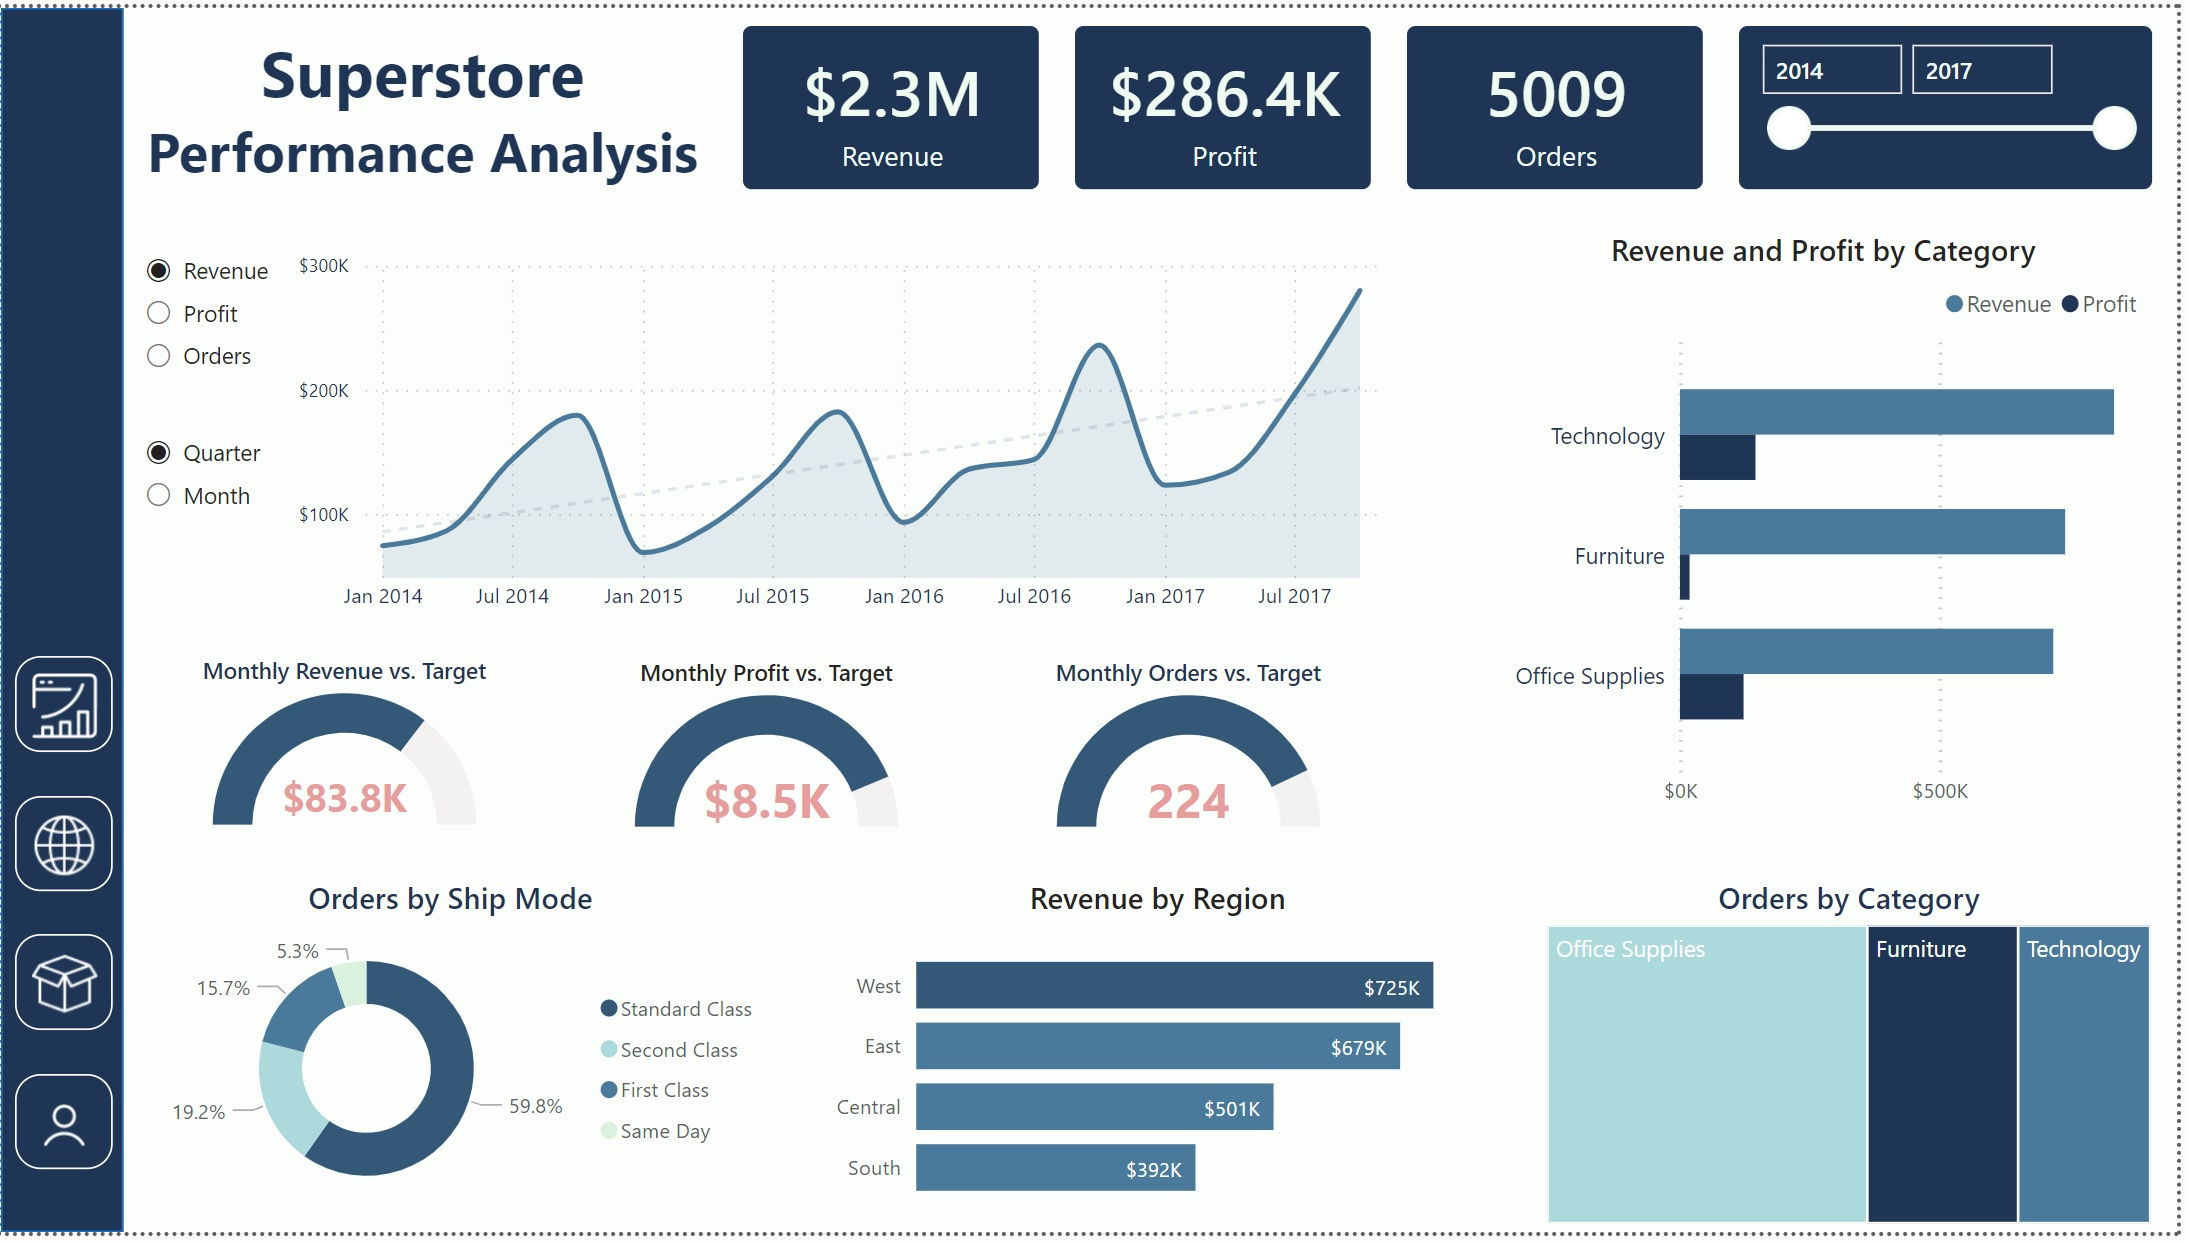

Layout of this report page (visuals, bound fields, positions):
{"tool":"powerbi","page":{"name":"Executive Summary","canvas":[1280,720],"ordinal":0},"visuals":[{"type":"textbox","box":[70.5,6.8,363.6,105.7],"z":0},{"type":"actionButton","title":"Customers","box":[8,627.3,57.7,56],"z":0,"group":"g1"},{"type":"card","fields":{"Values":["Measure Table.Orders"]},"box":[827.4,10,174,96],"z":1000},{"type":"actionButton","title":"Products","box":[8,544.9,57.7,56.6],"z":1000,"group":"g1"},{"type":"slicer","fields":{"Values":["Calendar.Year"]},"box":[1022.7,10,243,96],"z":2000},{"type":"actionButton","title":"Globe","box":[8,463.2,57.7,56],"z":2000,"group":"g1"},{"type":"shape","box":[0,0,72,720],"z":3000},{"type":"actionButton","title":"Dashboard","box":[8,380.8,57.7,56.6],"z":3000,"group":"g1"},{"type":"areaChart","title":"Revenue by Quarter and Month","fields":{"Y":["Measure Table.Revenue"],"Category":["Calendar.Quarter"]},"box":[169.9,137.7,657.2,226.5],"z":4000},{"type":"treemap","fields":{"Values":["Measure Table.Orders"],"Group":["Products.Sub-Category Hierarchy.Category","Products.Sub-Category Hierarchy.Sub-Category"]},"box":[904.7,511.8,364.7,208.2],"z":5000},{"type":"clusteredBarChart","fields":{"Category":["Products.Category"],"Y":["Measure Table.Revenue","Measure Table.Profit"]},"box":[878.1,131,388.6,343],"z":6000},{"type":"barChart","fields":{"Y":["Measure Table.Revenue"],"Category":["Locations.Region"]},"box":[482.3,511.8,396.3,204.3],"z":7000},{"type":"card","title":"Revenue","fields":{"Values":["Measure Table.Revenue"]},"box":[436.6,10,174.1,96.2],"z":8000},{"type":"card","title":"Profit","fields":{"Values":["Measure Table.Profit"]},"box":[632,10,174.1,96],"z":9000},{"type":"donutChart","fields":{"Y":["Measure Table.Orders"],"Category":["Sales.Ship Mode"]},"box":[73.3,511.8,383,200.9],"z":10000},{"type":"gauge","title":"Monthly Revenue vs. Target","fields":{"Y":["Measure Table.Revenue"],"MaxValue":["Measure Table.Previous Month Revenue"]},"box":[86.6,380,229.8,105.5],"z":11000},{"type":"gauge","title":"Monthly Profit vs. Target","fields":{"Y":["Measure Table.Profit"],"MaxValue":["Measure Table.Previous Month Profit"]},"box":[335.3,380.8,229.8,105.5],"z":12000},{"type":"gauge","title":"Monthly Orders vs. Target","fields":{"Y":["Measure Table.Orders"],"MaxValue":["Measure Table.Previous Month Orders"]},"box":[583.9,380.8,229.8,105.5],"z":13000},{"type":"slicer","fields":{"Values":["Product Metric Selection.Product Metric Selection PRO"]},"box":[73.3,136.5,96.6,94.4],"z":14000},{"type":"slicer","fields":{"Values":["Quarter and Month Selection.Quarter and Month Selection"]},"box":[73.3,243.1,99.9,62.2],"z":15000},{"type":"group","id":"g1","title":"Group 1","box":[8,380.8,57.7,302.5],"z":16000}]}

Visuals, with their boxes in screenshot pixels (x1, y1, x2, y2), scaled from the page's 1280x720 canvas onto the 2190x1242 screenshot:
textbox: Rect(121, 12, 743, 194)
"Customers" actionButton: Rect(14, 1082, 112, 1179)
card - Measure Table.Orders: Rect(1416, 17, 1713, 183)
"Products" actionButton: Rect(14, 940, 112, 1038)
slicer - Calendar.Year: Rect(1750, 17, 2166, 183)
"Globe" actionButton: Rect(14, 799, 112, 896)
shape: Rect(0, 0, 123, 1241)
"Dashboard" actionButton: Rect(14, 657, 112, 755)
"Revenue by Quarter and Month" areaChart: Rect(291, 238, 1415, 628)
treemap - Measure Table.Orders x Products.Sub-Category Hierarchy.Category: Rect(1548, 883, 2172, 1241)
clusteredBarChart - Products.Category x Measure Table.Revenue: Rect(1502, 226, 2167, 818)
barChart - Measure Table.Revenue x Locations.Region: Rect(825, 883, 1503, 1235)
"Revenue" card: Rect(747, 17, 1045, 183)
"Profit" card: Rect(1081, 17, 1379, 183)
donutChart - Measure Table.Orders x Sales.Ship Mode: Rect(125, 883, 781, 1229)
"Monthly Revenue vs. Target" gauge: Rect(148, 656, 541, 837)
"Monthly Profit vs. Target" gauge: Rect(574, 657, 967, 839)
"Monthly Orders vs. Target" gauge: Rect(999, 657, 1392, 839)
slicer - Product Metric Selection.Product Metric Selection PRO: Rect(125, 235, 291, 398)
slicer - Quarter and Month Selection.Quarter and Month Selection: Rect(125, 419, 296, 527)
"Group 1" group: Rect(14, 657, 112, 1179)
